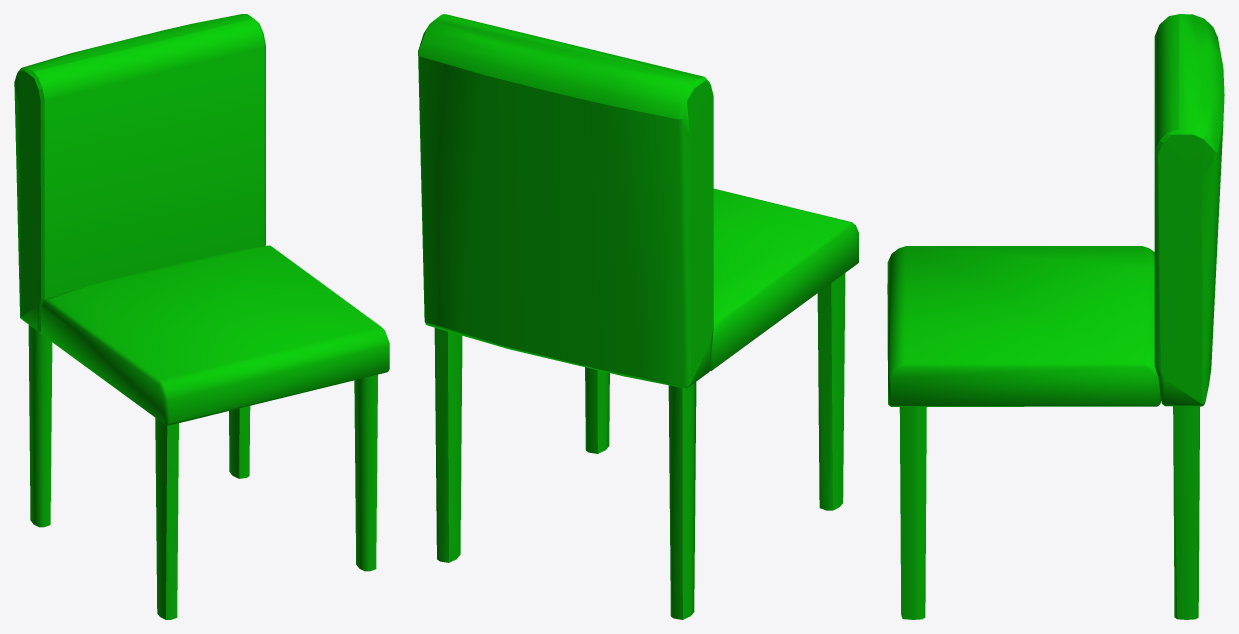
File: UCX_Chair3.fbx
3 renders of one model, left to right at view 1: azimuth 30°, elevation 25°; view 2: azimuth 150°, elevation 25°; view 3: azimuth 270°, elevation 25°, orthographic. The views are drawn at different scales.
Visible parts, largest first — view 1: UCX_Chair3; view 2: UCX_Chair3; view 3: UCX_Chair3.
Part boxes in pixels (left/top/right/bottom): UCX_Chair3: left=14, top=14, right=389, bottom=619; UCX_Chair3: left=418, top=14, right=858, bottom=619; UCX_Chair3: left=887, top=14, right=1224, bottom=619.
Bounding box in the file's own units: 0.4199 × 0.8098 × 0.5028.
